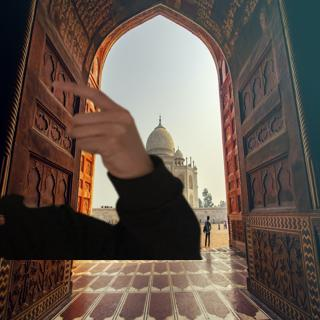WHY: (44, 74, 151, 177)
